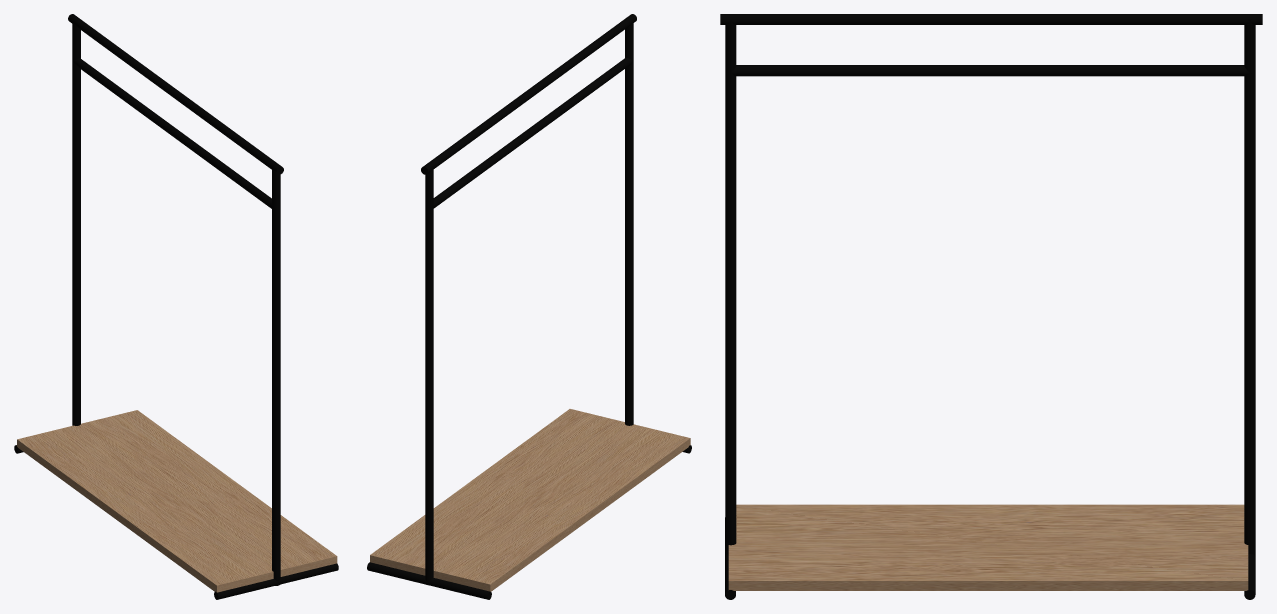
3 renders of one model, left to right at view 1: azimuth 30°, elevation 25°; view 2: azimuth 150°, elevation 25°; view 3: azimuth 270°, elevation 25°, orthographic. The views are drawn at different scales.
Parts seen in each view (by area): view 1: Cube, Cylinder.003, Cylinder.002, Cylinder.006, Cylinder.005, Cylinder.001; view 2: Cube, Cylinder.002, Cylinder.003, Cylinder.006, Cylinder.005, Cylinder; view 3: Cube, Cylinder.002, Cylinder.003, Cylinder.005, Cylinder.006.
Boxes of the visible parts, left/top/right/bottom form: Cube: left=17, top=410, right=337, bottom=592; Cylinder.003: left=272, top=167, right=280, bottom=585; Cylinder.002: left=72, top=20, right=80, bottom=425; Cylinder.006: left=68, top=14, right=283, bottom=174; Cylinder.005: left=72, top=58, right=272, bottom=208; Cylinder.001: left=214, top=563, right=338, bottom=599; Cube: left=370, top=409, right=690, bottom=591; Cylinder.002: left=425, top=166, right=433, bottom=585; Cylinder.003: left=625, top=21, right=633, bottom=425; Cylinder.006: left=421, top=14, right=636, bottom=174; Cylinder.005: left=432, top=58, right=632, bottom=208; Cylinder: left=367, top=562, right=491, bottom=599; Cube: left=728, top=504, right=1248, bottom=590; Cylinder.002: left=1244, top=19, right=1255, bottom=556; Cylinder.003: left=725, top=20, right=736, bottom=554; Cylinder.005: left=731, top=65, right=1251, bottom=76; Cylinder.006: left=720, top=14, right=1262, bottom=24.
Bounding box in the file's own units: 0.4064 × 1.36 × 1.22.
4 materials, 1 textured.
